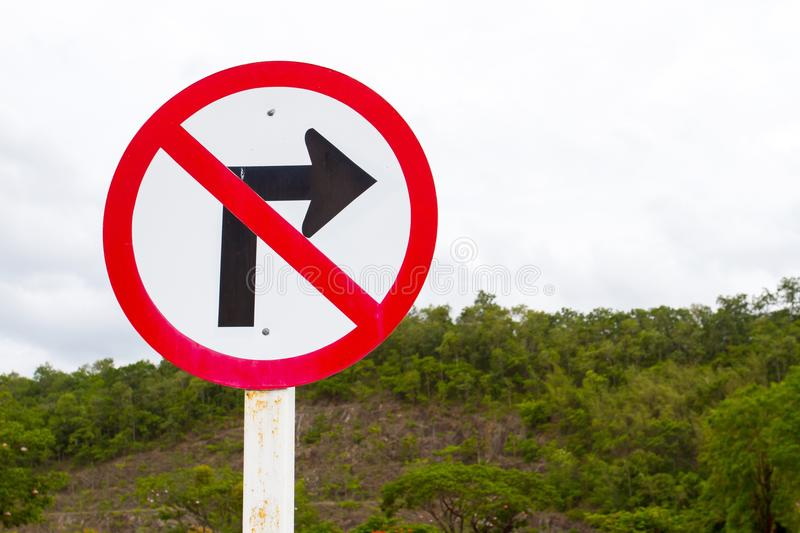No_right_turn: (102, 62, 440, 391)
